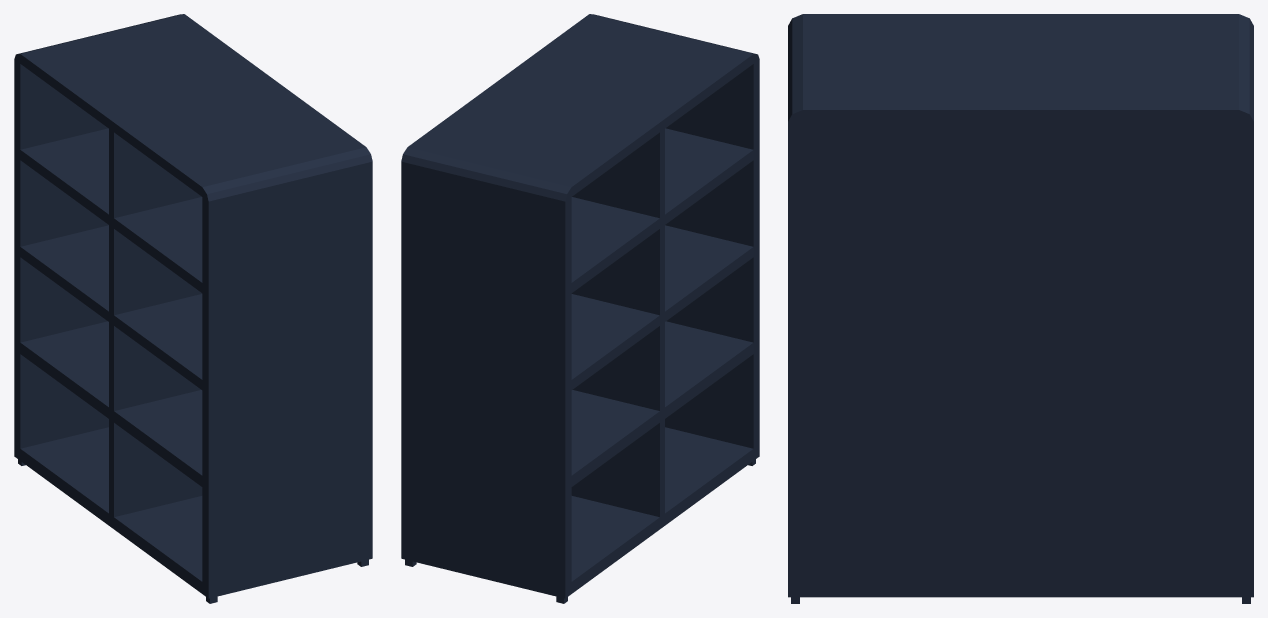
File: Prateleira1.fbx
3 views of the same model, side by side, from view 1: azimuth 30°, elevation 25°; view 2: azimuth 150°, elevation 25°; view 3: azimuth 270°, elevation 25° (orthographic). The views are drawn at different scales.
Visible parts, largest first — view 1: Cube; view 2: Cube; view 3: Cube.
Boxes of the visible parts, x1=… form: Cube: x1=14, y1=14, x2=372, y2=603; Cube: x1=401, y1=14, x2=759, y2=603; Cube: x1=788, y1=14, x2=1253, y2=603.
Bounding box in the file's own units: 5.65 × 11.59 × 13.61.
